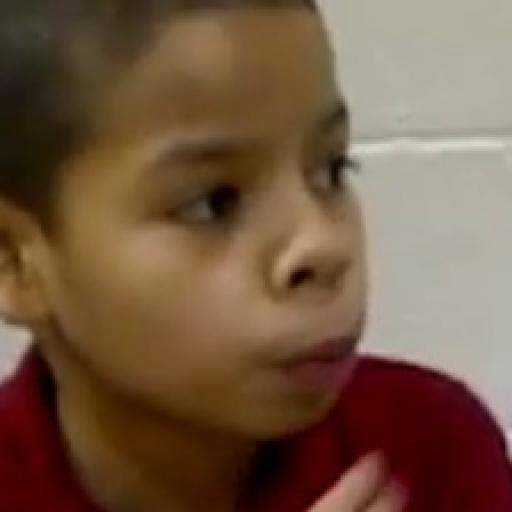Autism: (25, 4, 437, 466)
